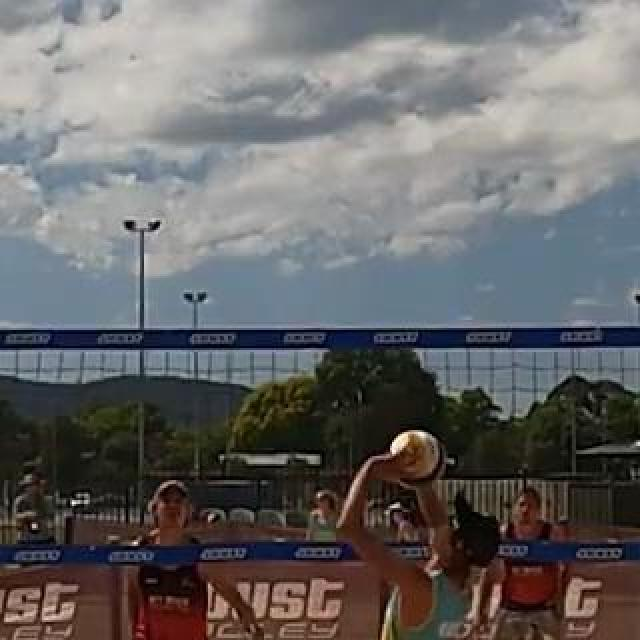volleyball: (391, 429, 445, 487)
